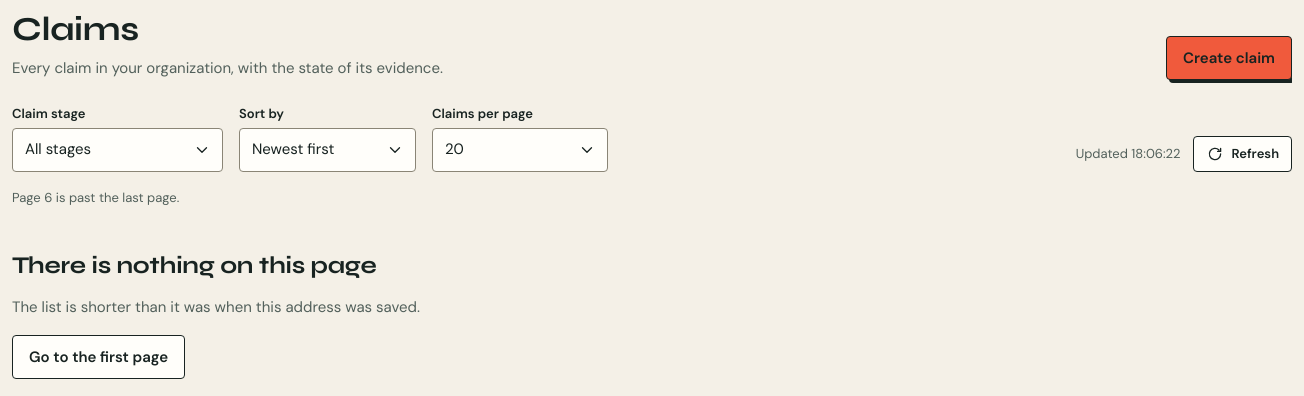
Test case: ClaimsListPage: every state › says so when the address points past the last page, and offers the first
Expected: the heading "There is nothing on this page" is shown, left=12, top=252, right=376, bottom=280
Click the button "Go to the first page".
click(99, 357)  # box left=12, top=335, right=185, bottom=379
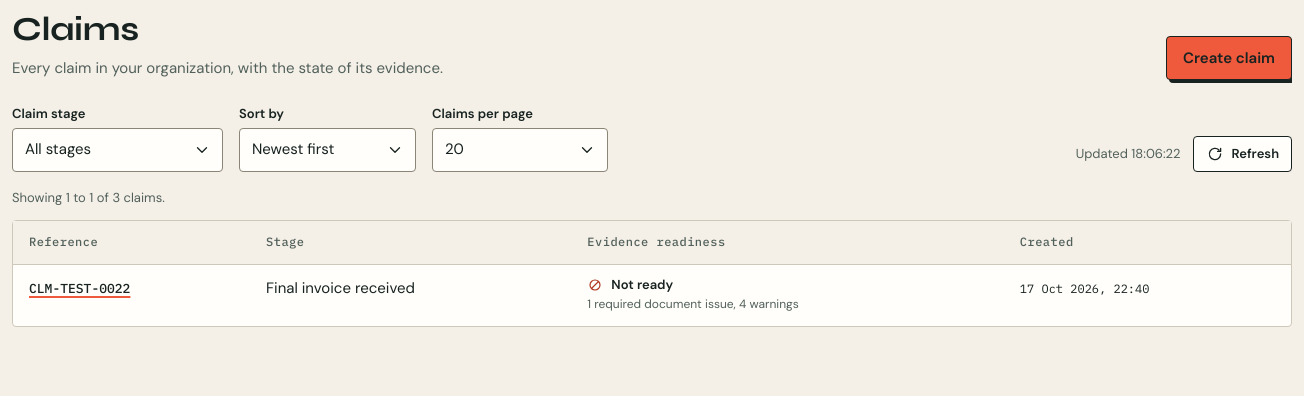
Expected: the table is shown, left=13, top=221, right=1291, bottom=326
